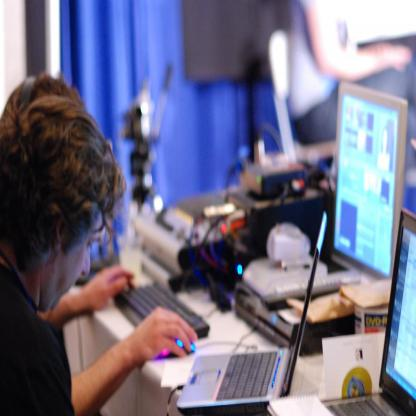board: (177, 212, 326, 416), (320, 209, 416, 415)
